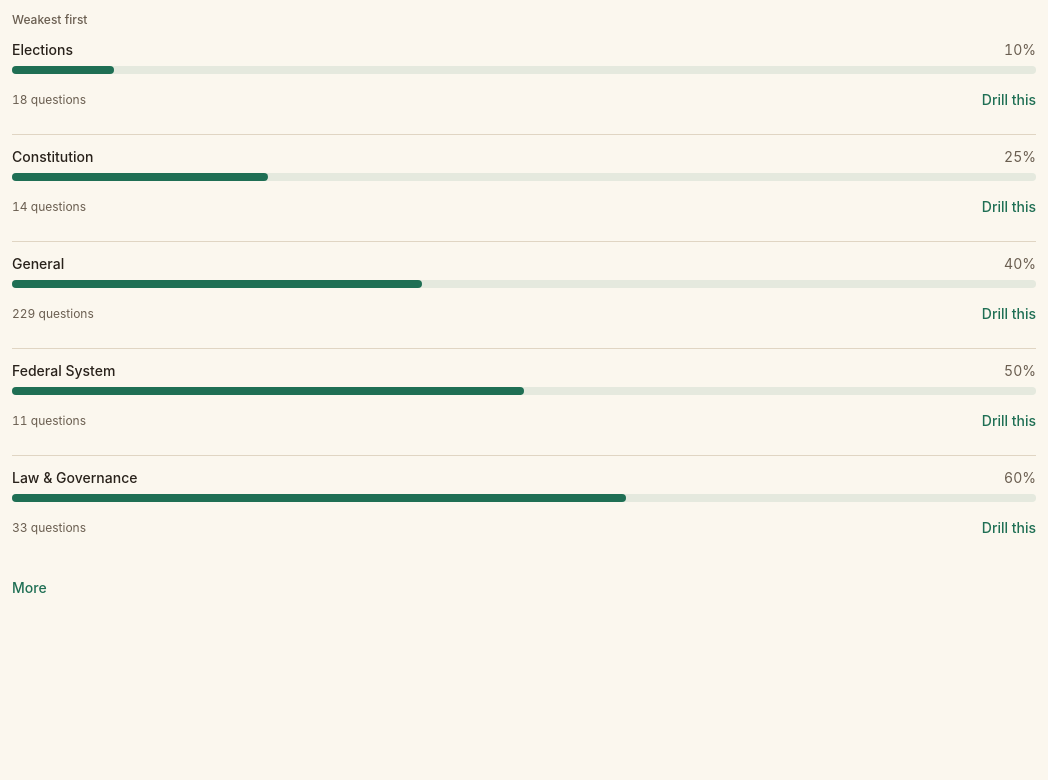
Test: CategoryBars › collapses to five rows and discloses the rest
This screenshot has width=1048, height=780.
Expected: the text "Rights & Freedoms" is not shown
Click the button "More": (29, 588) [12,566,47,610]
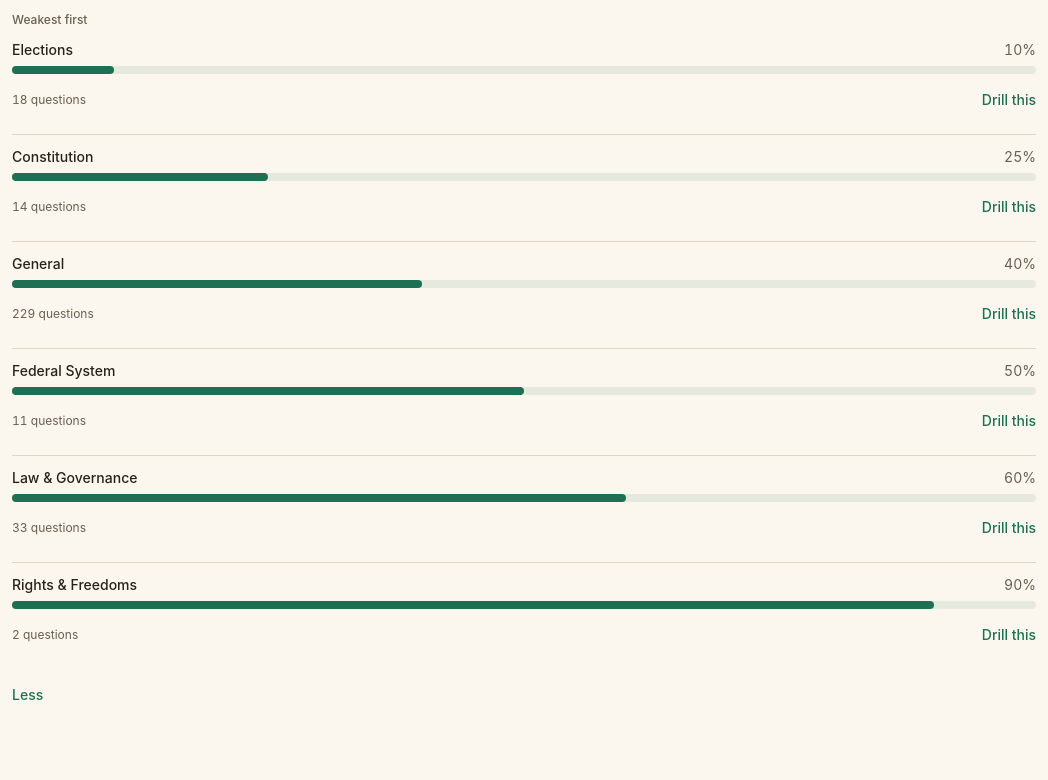
Result: the text "Rights & Freedoms" is shown at [12,575,137,595]
